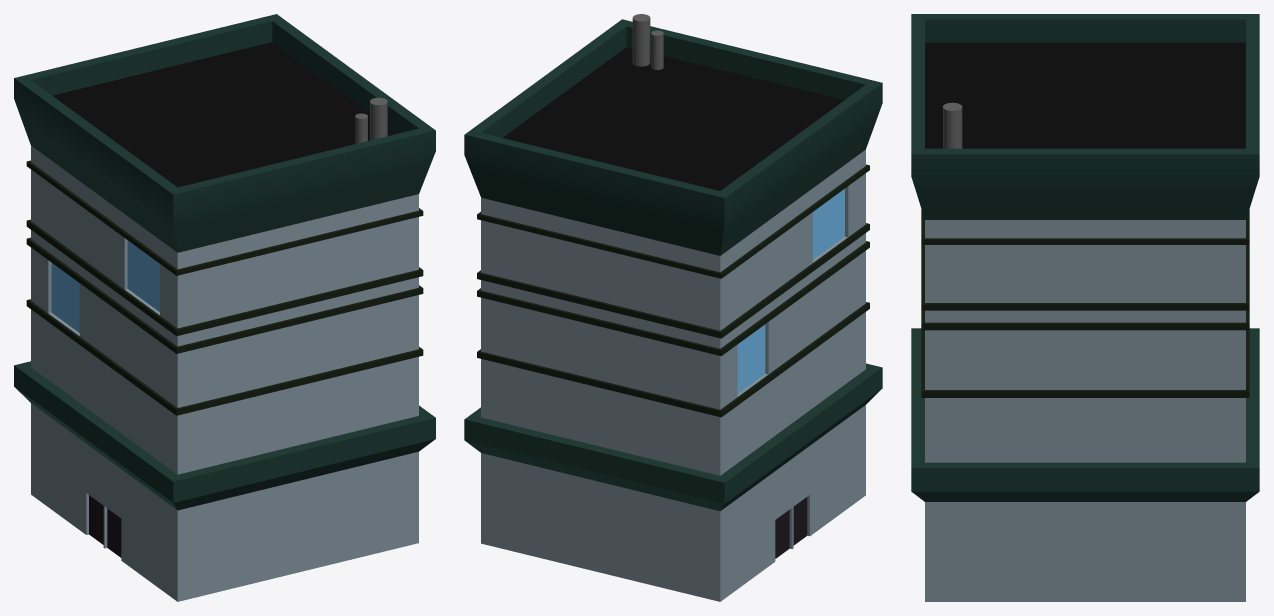
Rendered from BuildingVer14.fbx.
3 views of the same model, side by side, from view 1: azimuth 30°, elevation 25°; view 2: azimuth 150°, elevation 25°; view 3: azimuth 270°, elevation 25° (orthographic). The views are drawn at different scales.
Visible parts, largest first — view 1: Box002; view 2: Box002; view 3: Box002.
Boxes of the visible parts, box(x1,y1,x2,y2) form: Box002: box(14, 14, 435, 601); Box002: box(464, 14, 882, 601); Box002: box(911, 14, 1259, 601).
Size of the model in its own units: 683 by 1091 by 717.
